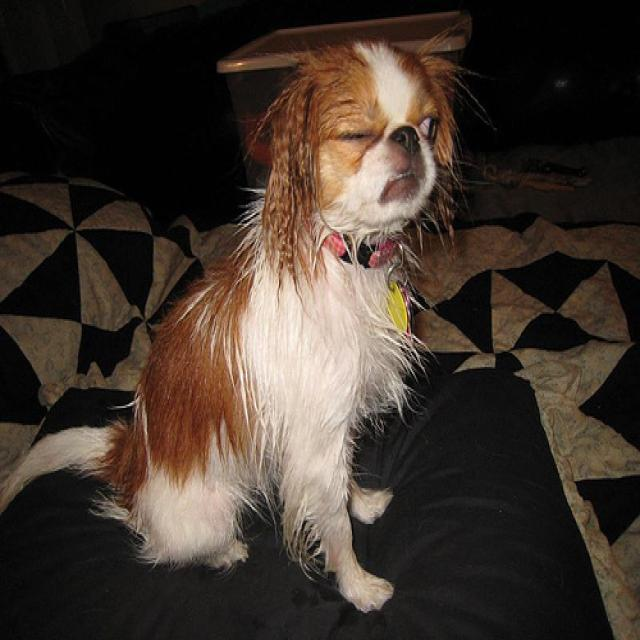dog-japanese_chin: (1, 14, 503, 623)
